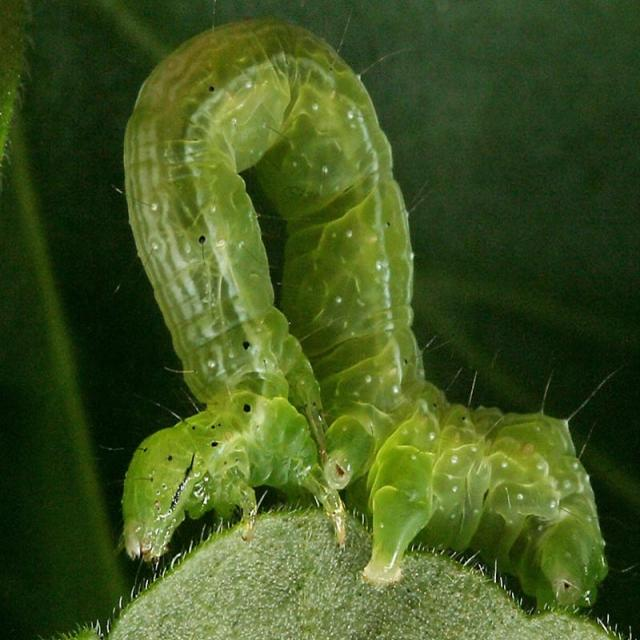looper: (77, 10, 616, 615)
